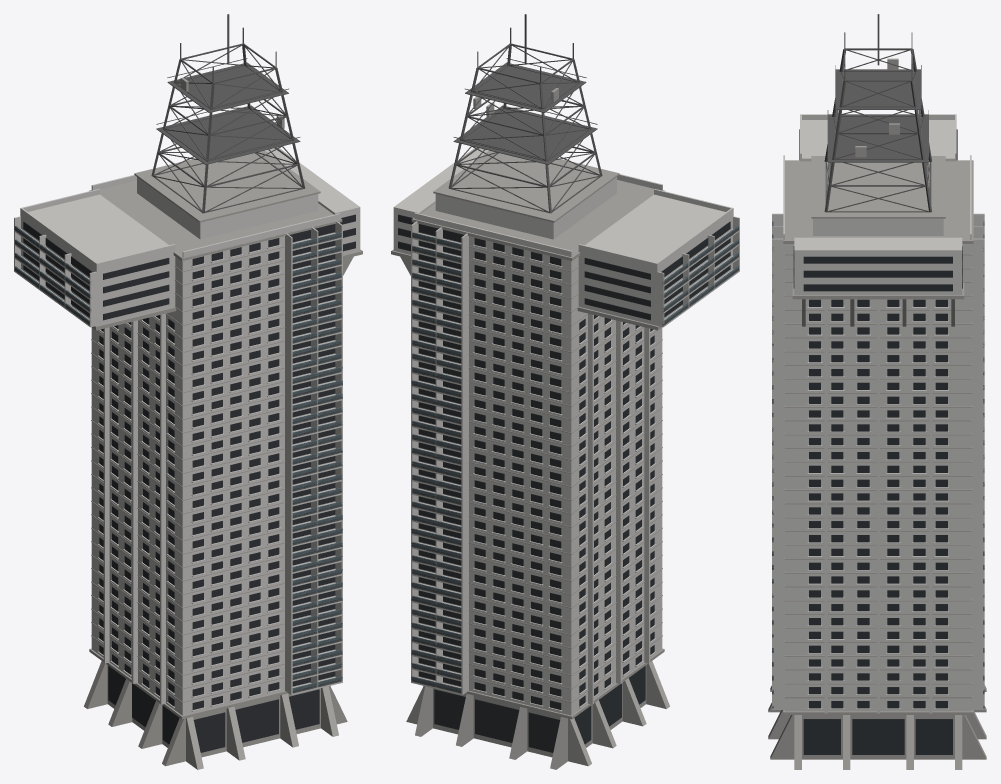
Rendered from Skyscraper.fbx.
3 renders of one model, left to right at view 1: azimuth 30°, elevation 25°; view 2: azimuth 150°, elevation 25°; view 3: azimuth 270°, elevation 25°, orthographic. The views are drawn at different scales.
Visible parts, largest first — view 1: Skyscraper.001; view 2: Skyscraper.001; view 3: Skyscraper.001.
Boxes of the visible parts, box(x1,y1,x2,y2) form: Skyscraper.001: box(14, 14, 362, 769); Skyscraper.001: box(391, 14, 739, 769); Skyscraper.001: box(768, 14, 986, 769).
Size of the model in its own units: 62.71 by 155 by 42.9.
